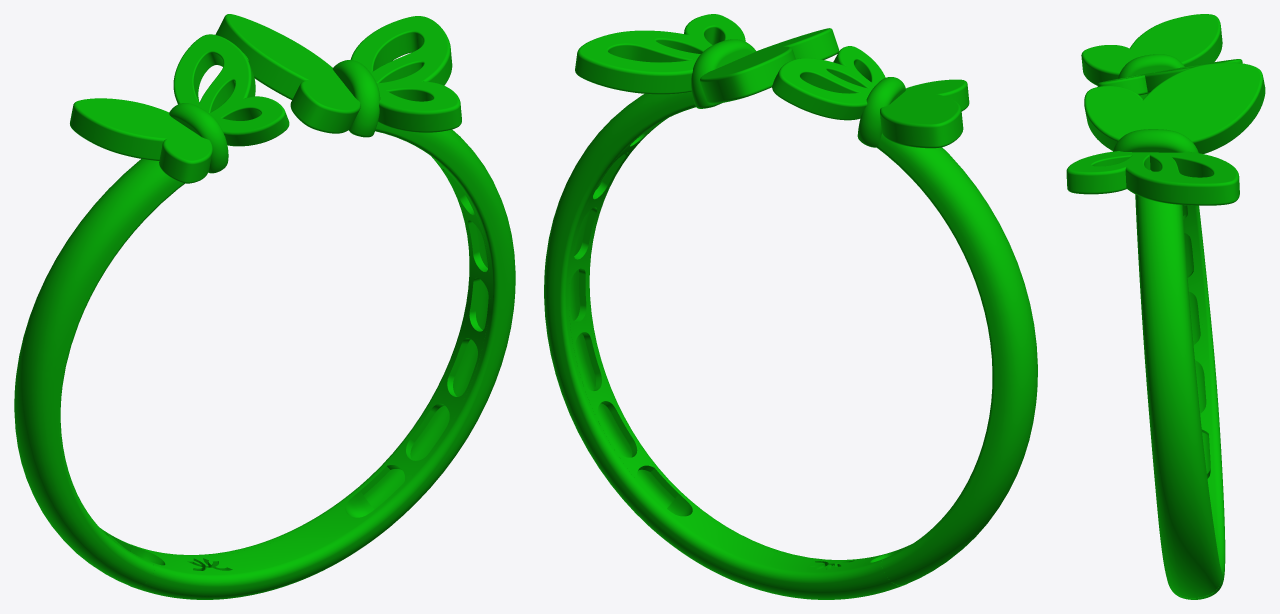
The picture shows the model from 3 angles, left to right: view 1: azimuth 30°, elevation 25°; view 2: azimuth 150°, elevation 25°; view 3: azimuth 270°, elevation 25°; orthographic projection. The views are drawn at different scales.
Parts seen in each view (by area): view 1: 2.3dm; view 2: 2.3dm; view 3: 2.3dm.
Boxes of the visible parts, x1,y1,x2,y2 form: 2.3dm: (14,14,515,599); 2.3dm: (544,14,1037,599); 2.3dm: (1066,14,1265,599).
Bounding box in the file's own units: 2.64 × 2.83 × 0.9995.
